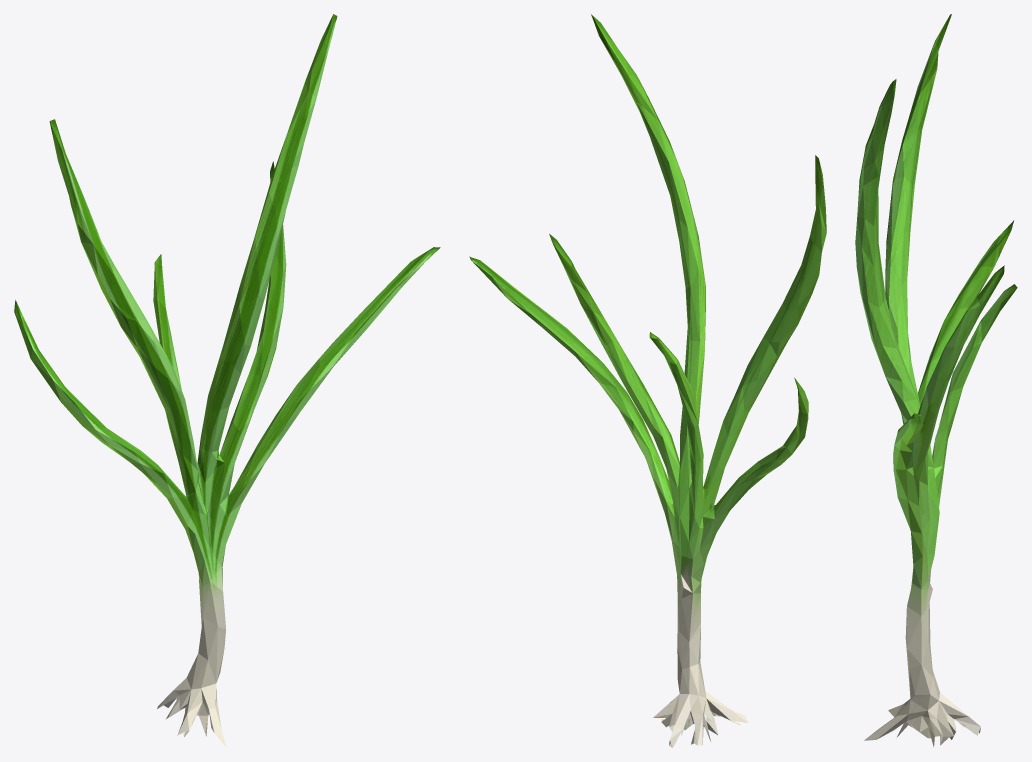
File: P_Jiucai_01.obj
3 renders of one model, left to right at view 1: azimuth 30°, elevation 25°; view 2: azimuth 150°, elevation 25°; view 3: azimuth 270°, elevation 25°, orthographic. The views are drawn at different scales.
Size of the model in its own units: 0.6091 by 1.06 by 0.2153.
Materials: 1 (1 with a texture image).
